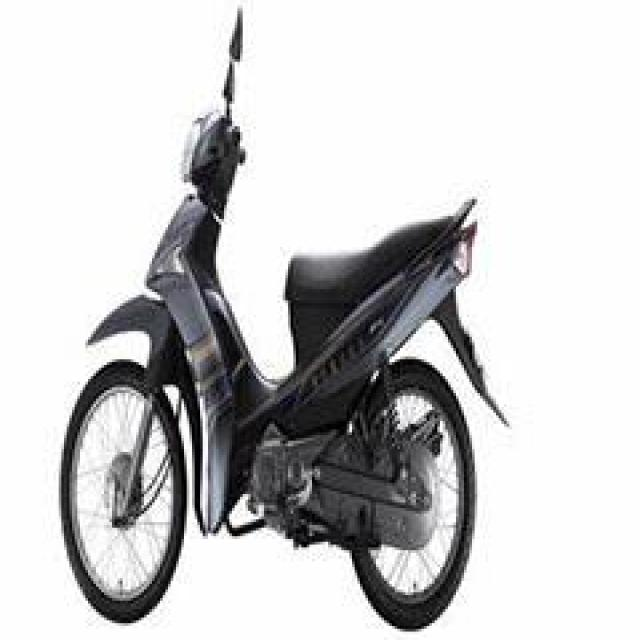motorcycle: (45, 3, 536, 629)
